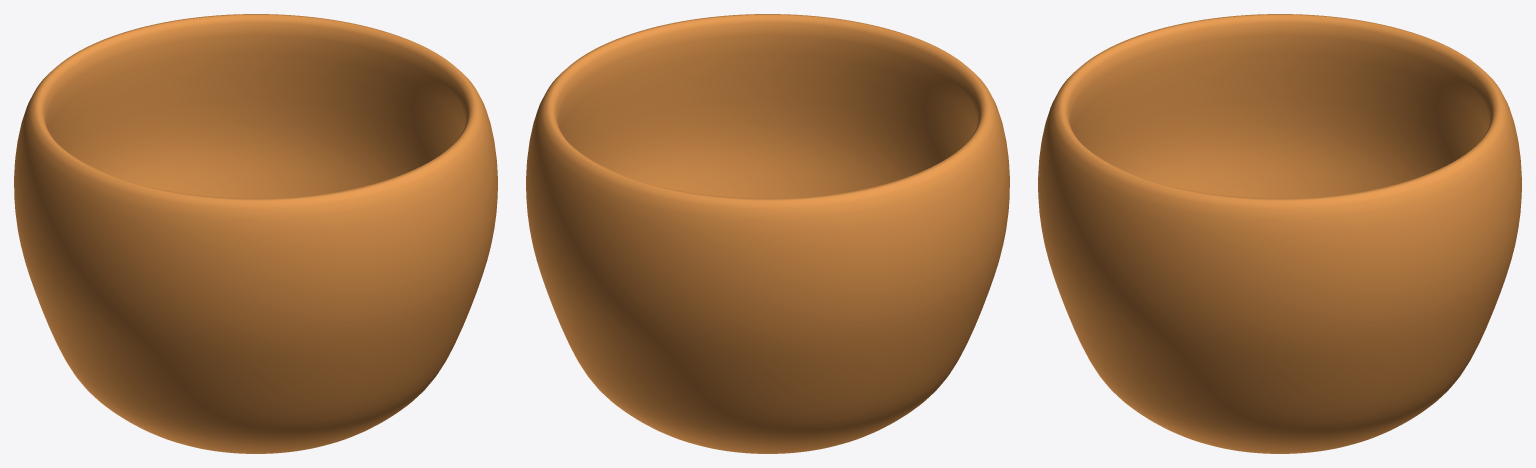
Rendered from Bowl2.fbx.
3 views of the same model, side by side, from view 1: azimuth 30°, elevation 25°; view 2: azimuth 150°, elevation 25°; view 3: azimuth 270°, elevation 25° (orthographic).
Visible parts, largest first — view 1: Bowl; view 2: Bowl; view 3: Bowl.
Part boxes in pixels (<box>): Bowl: <box>14,14,497,453</box>; Bowl: <box>526,14,1009,453</box>; Bowl: <box>1038,14,1521,453</box>.
Bounding box in the file's own units: 504 × 355 × 504.
